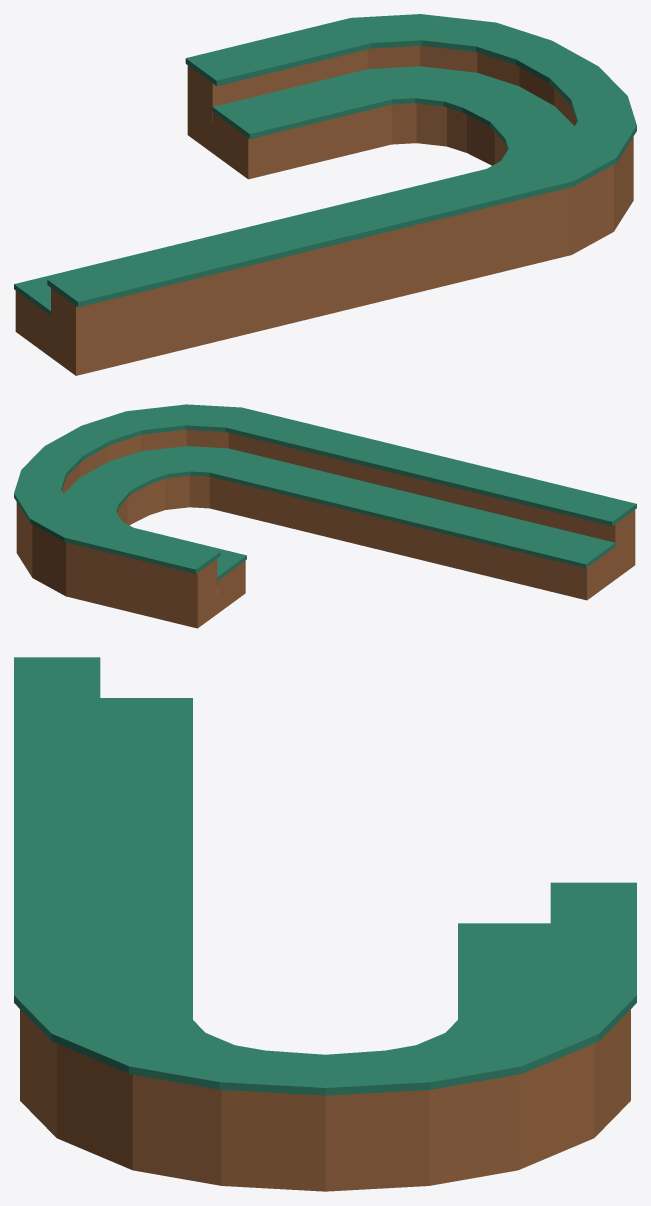
The model's file is scene_Reception.fbx.
The picture shows the model from 3 angles, top to bottom: view 1: azimuth 30°, elevation 25°; view 2: azimuth 150°, elevation 25°; view 3: azimuth 270°, elevation 25°; orthographic projection. The views are drawn at different scales.
Visible parts, largest first — view 1: Reception; view 2: Reception; view 3: Reception.
Part boxes in pixels (x1=…): Reception: x1=14, y1=14, x2=636, y2=375; Reception: x1=14, y1=404, x2=636, y2=628; Reception: x1=14, y1=657, x2=636, y2=1191.
Size of the model in its own units: 1212 by 138 by 741.
